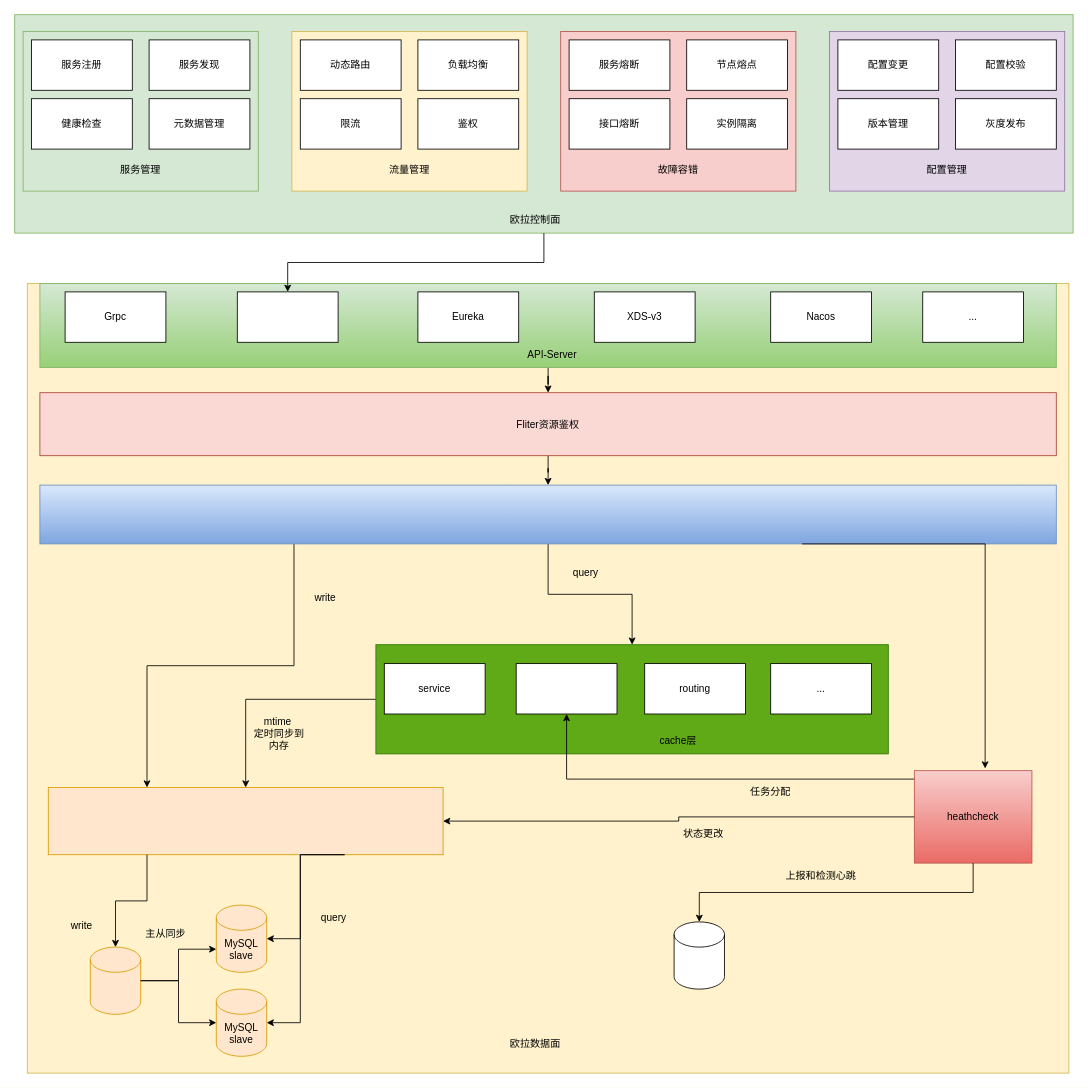
The diagram is 1088 pixels wide and 1088 high, and some of its shapes have lost their labels. The centre of each missing label's shape, as x and y in pixels:
"instance" belongs at point 566,688.
"MySQL master" belongs at point 115,980.
"naming 逻辑" belongs at point 547,514.
"Open-API" belongs at point 287,316.
"redis" belongs at point 698,955.
"storage层 （dal数据访问层）" belongs at point 245,821.
